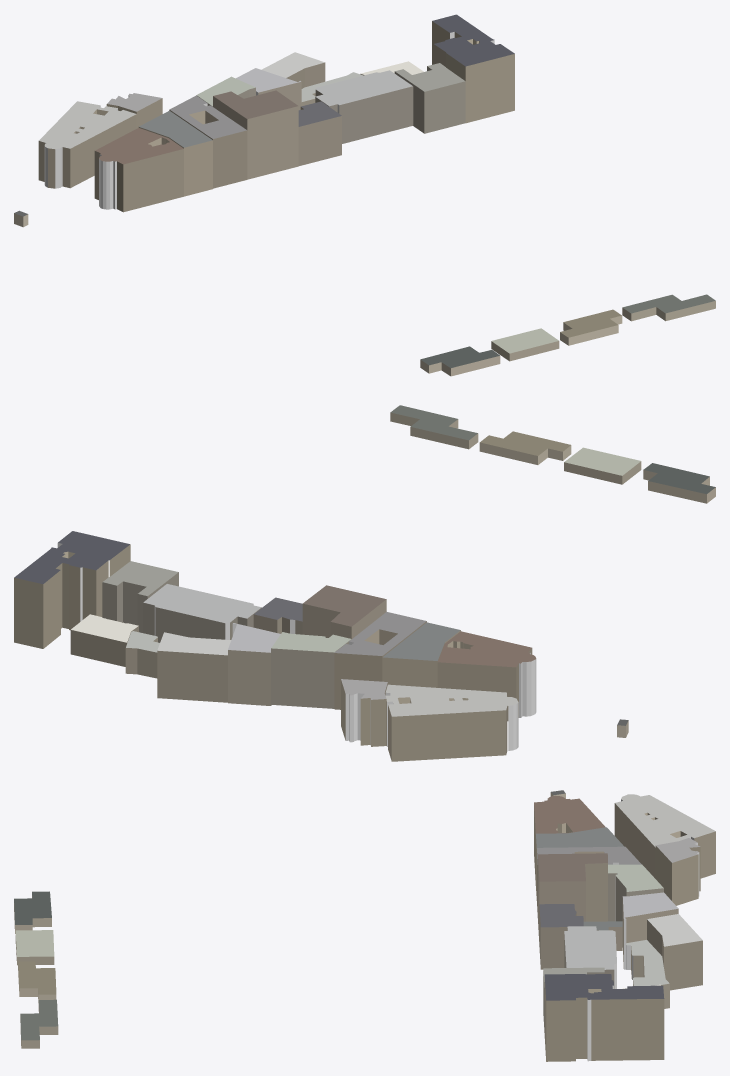
3 renders of one model, top to bottom at view 1: azimuth 30°, elevation 25°; view 2: azimuth 150°, elevation 25°; view 3: azimuth 270°, elevation 25°, orthographic. The views are drawn at different scales.
Visible parts, largest first — view 1: tuile; view 2: tuile; view 3: tuile.
Boxes of the visible parts, <box> form: tuile: <box>14,14,715,376</box>; tuile: <box>14,405,715,761</box>; tuile: <box>14,790,715,1061</box>.
Size of the model in its own units: 237 by 31.75 by 271.
